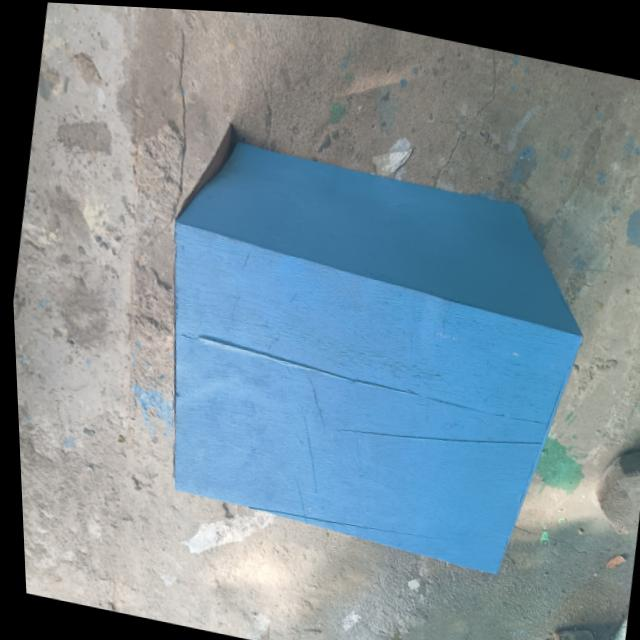blue_box: (109, 116, 605, 599)
